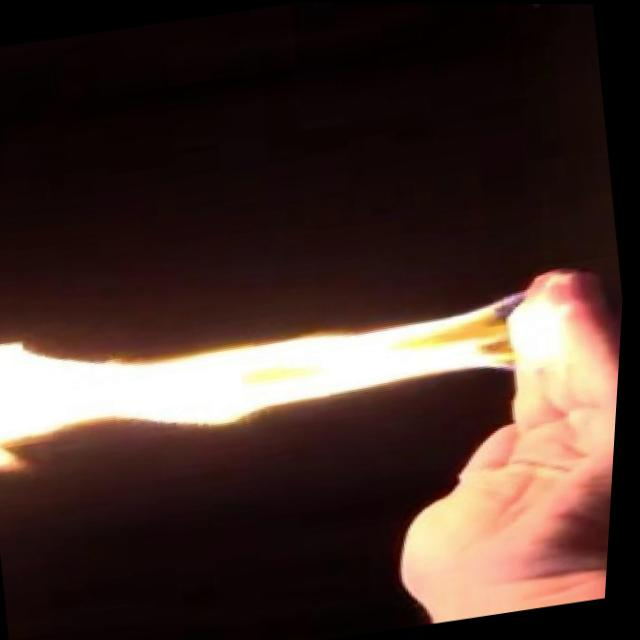helmet: (0, 243, 589, 481)
